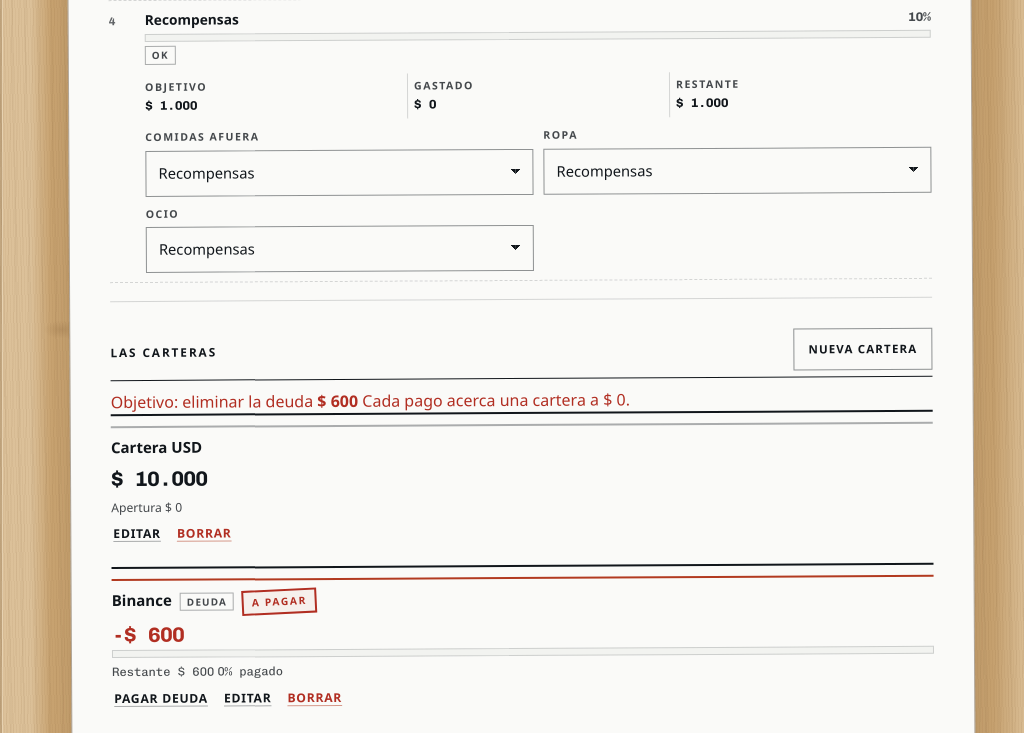
App · carteras y deudas › creates a new wallet from the panel
The image size is (1024, 733).
(page scrolled)
Click the button "Nueva cartera". click: coordinates (863, 349)
box: [793,328,932,370]
(page scrolled)
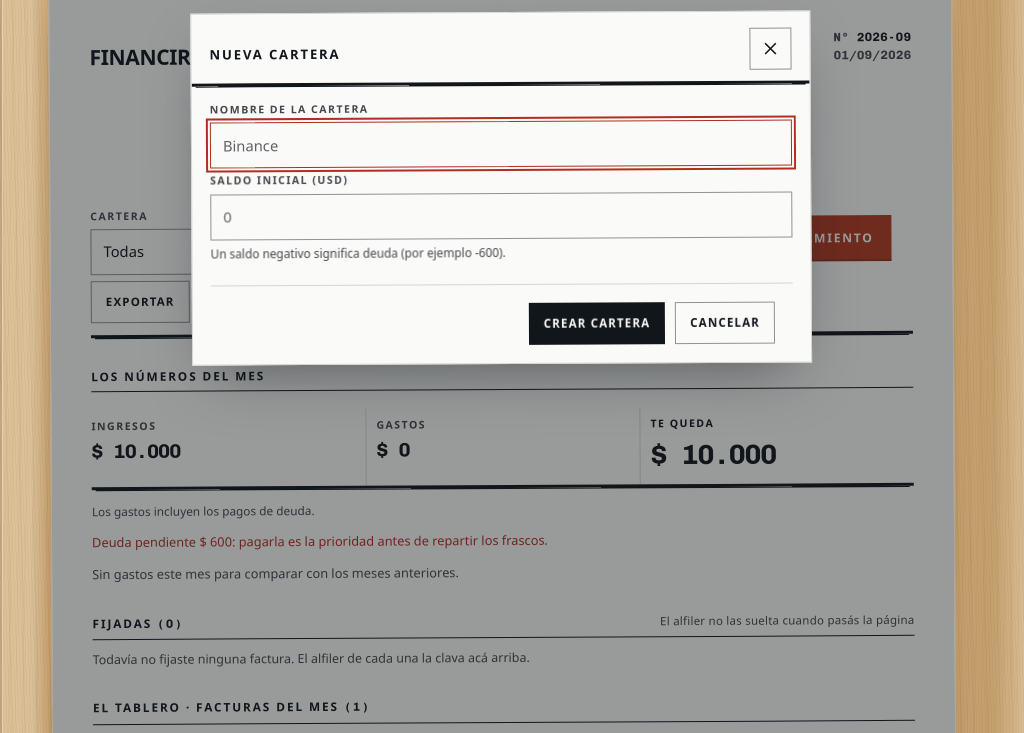
Type "Ahorro USD" into the field labelled "Nombre de la cartera". click: coordinates (501, 144)
box: [210,120,792,169]
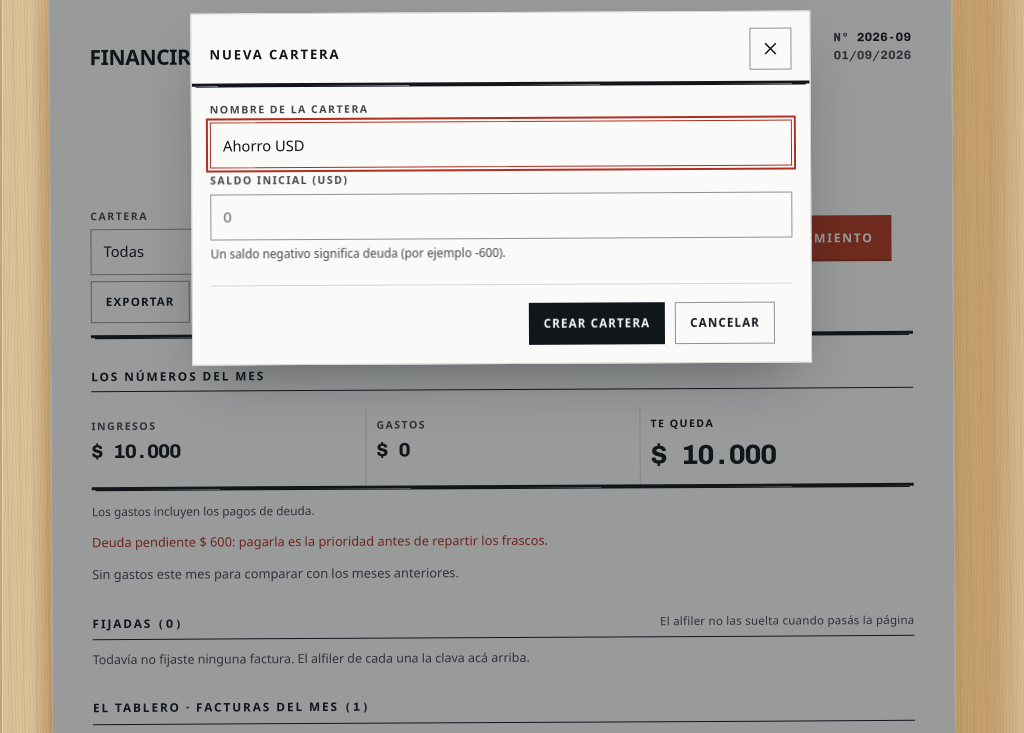
Type "1000" into the field labelled "Saldo inicial (USD)". click: coordinates (501, 216)
box: [210,191,792,240]
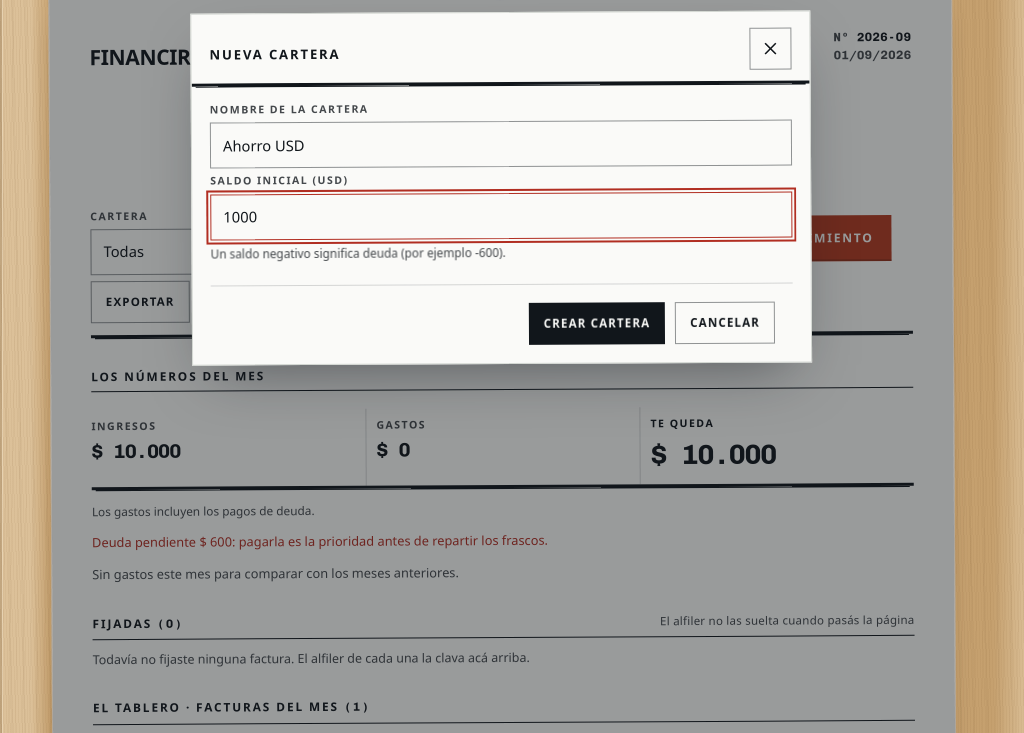
Click the button "Crear cartera". click: coordinates (597, 324)
box: [529,303,665,345]
(page scrolled)
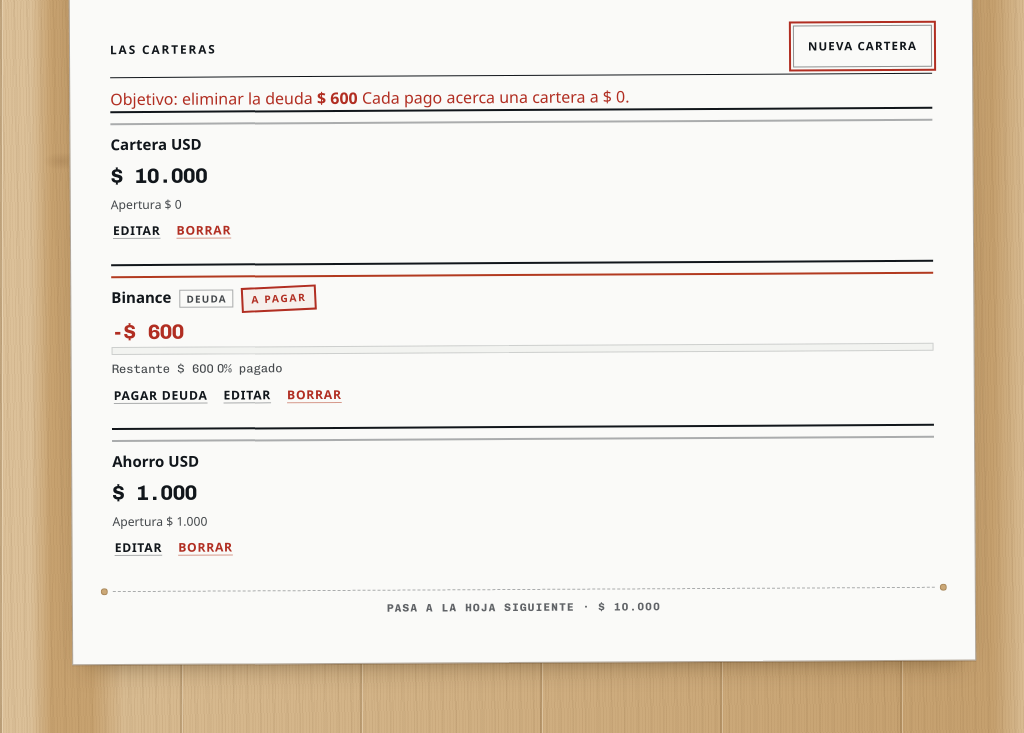
Expected: the text "Ahorro USD" is shown, [112,451,199,473]
